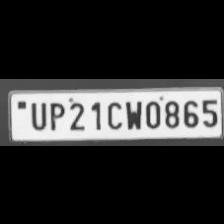0: (141, 97, 161, 127)
1: (86, 98, 104, 130)
2: (65, 97, 87, 130)
5: (199, 96, 219, 127)
6: (180, 95, 198, 127)
8: (162, 96, 180, 128)
C: (103, 97, 123, 128)
P: (46, 98, 64, 130)
U: (27, 98, 47, 130)
W: (122, 97, 142, 129)
